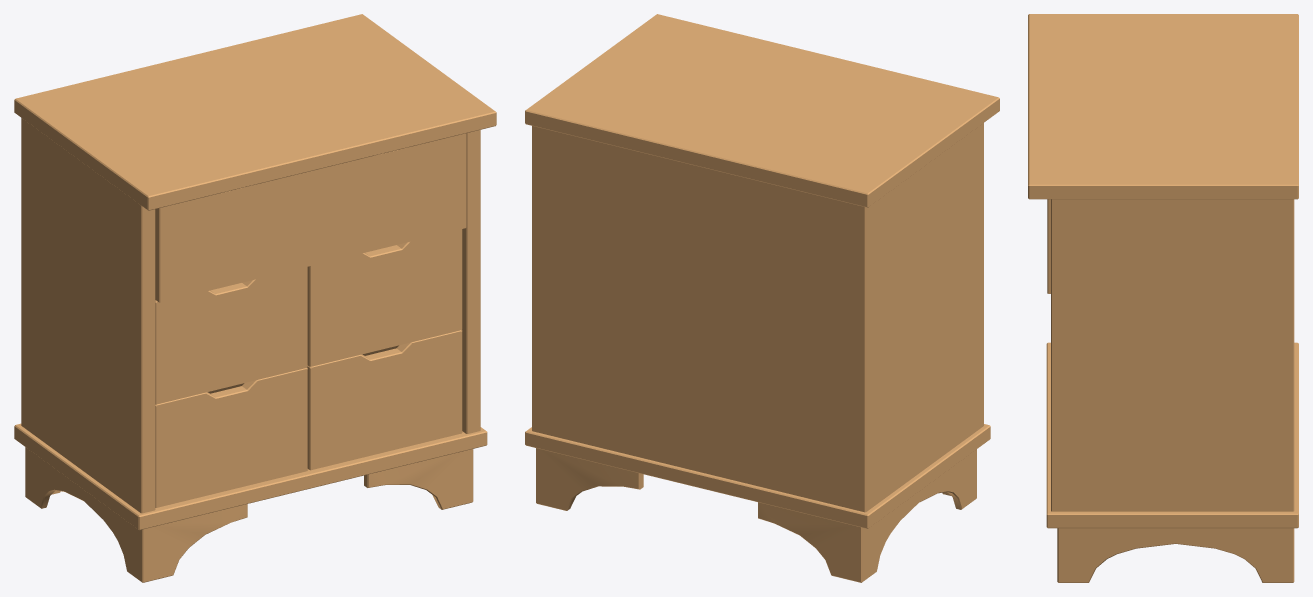
The model's file is dfk_drawers_01_a.fbx.
3 renders of one model, left to right at view 1: azimuth 30°, elevation 25°; view 2: azimuth 150°, elevation 25°; view 3: azimuth 270°, elevation 25°, orthographic. The views are drawn at different scales.
Parts seen in each view (by area): view 1: Drawer_1a, Drawers02.001, Drawers01.003, Drawers01.001, Drawers01.004, Drawers01.005; view 2: Drawer_1a; view 3: Drawer_1a, Drawers02.001.
Part boxes in pixels (box(x1,y1,x2,y2)): Drawer_1a: box(14, 14, 496, 582); Drawers02.001: box(155, 133, 466, 302); Drawers01.003: box(307, 330, 462, 470); Drawers01.001: box(155, 368, 307, 507); Drawers01.004: box(307, 229, 462, 366); Drawers01.005: box(155, 267, 307, 404); Drawer_1a: box(525, 14, 999, 582); Drawer_1a: box(1028, 14, 1298, 582); Drawers02.001: box(1047, 199, 1050, 293).
Size of the model in its own units: 0.75 by 0.8205 by 0.5.
